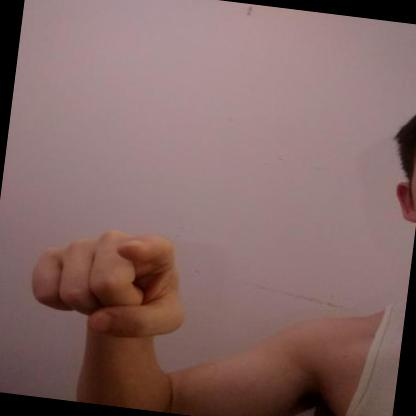Z: (31, 229, 184, 337)
